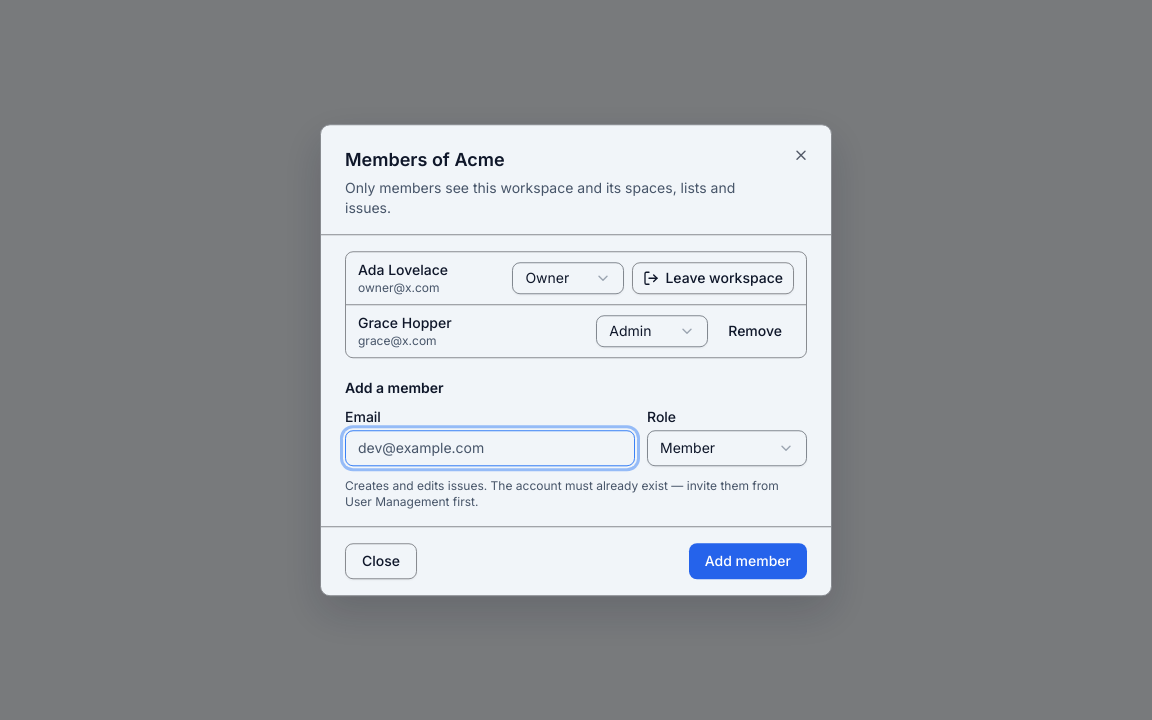
MembersDialog changing members › asks before you lower your own role, and shows why the last owner cannot
This screenshot has width=1152, height=720.
Click the dropdown named "Role of Ada Lovelace" at [568, 278], box [512, 262, 624, 294]
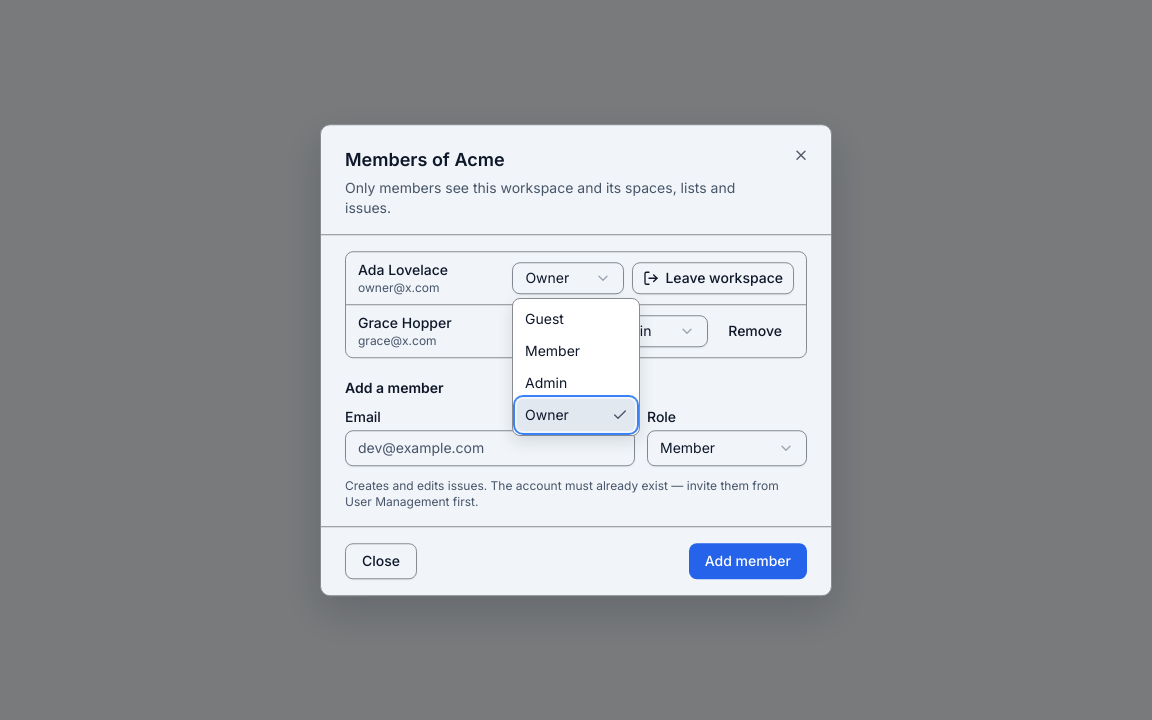
Click the option "Admin" at [546, 382], box [525, 374, 567, 391]
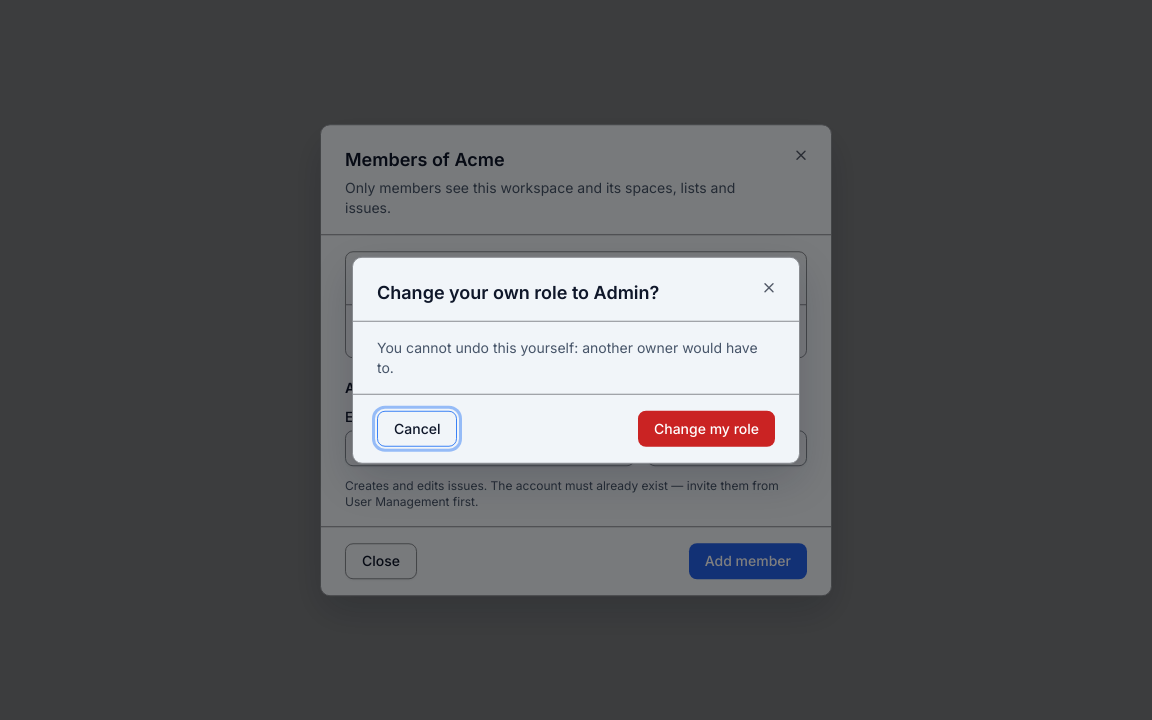
expect the dialog "Change your own role to Admin?" shows "You cannot undo this yourself: another owner would have to.": met, box [377, 338, 758, 375]
Click the button "Cancel" at [417, 428], box [377, 410, 458, 446]
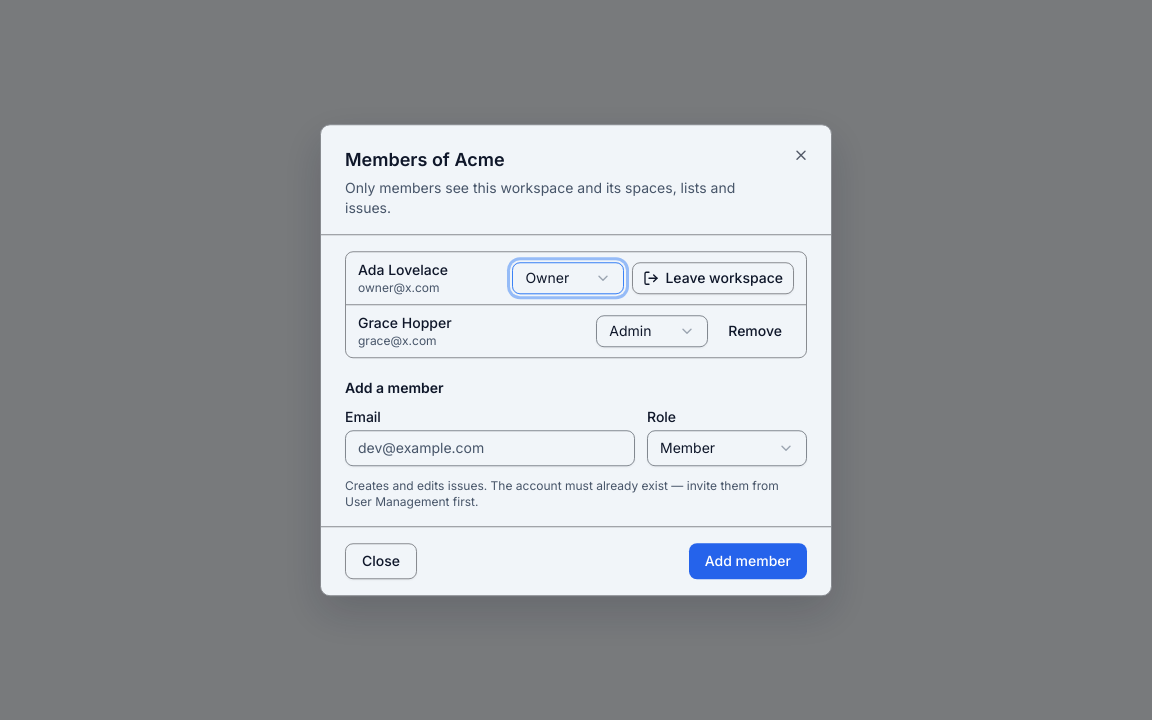
Click the dropdown named "Role of Ada Lovelace" at [568, 278], box [512, 262, 624, 294]
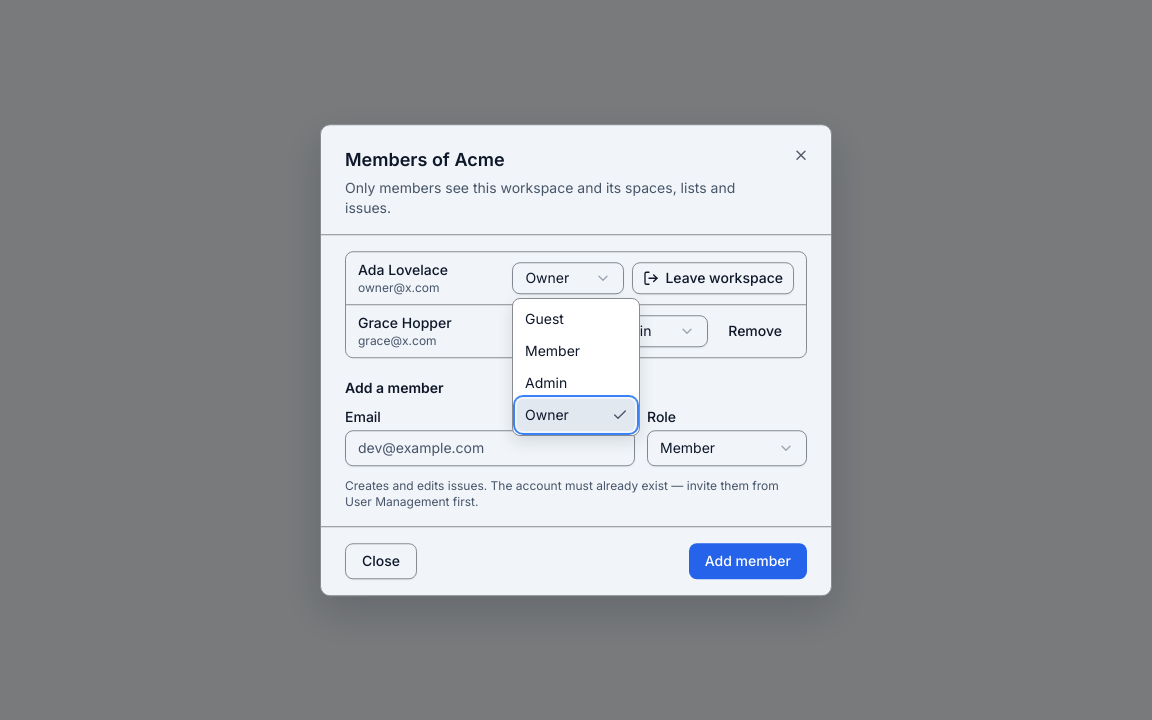
Click the option "Admin" at [546, 382], box [525, 374, 567, 391]
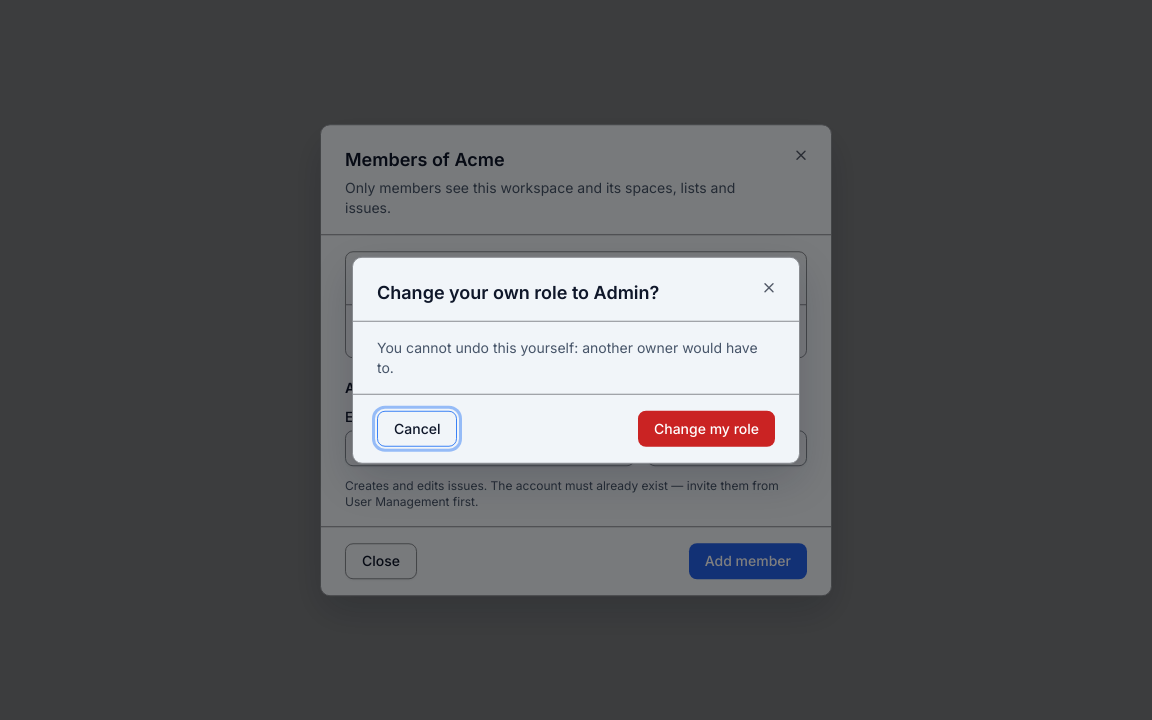
Click the button "Change my role" at [706, 428], box [638, 410, 775, 446]
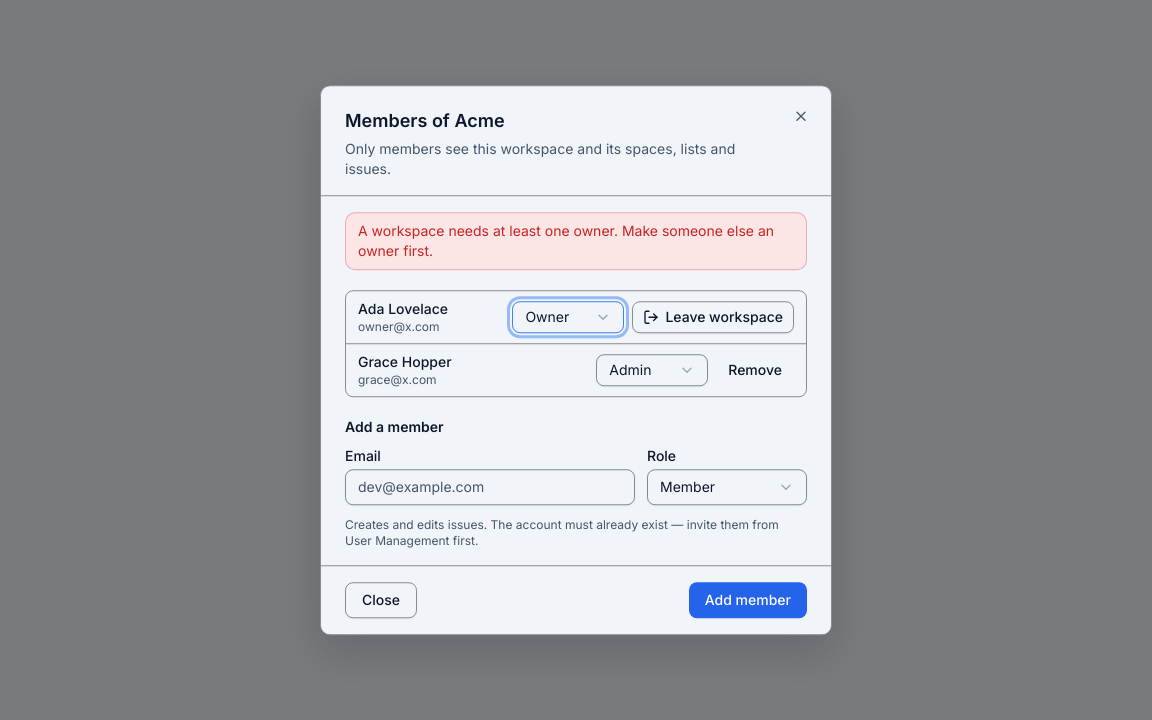
expect the dropdown named "Role of Ada Lovelace" reads "Owner": met, box [512, 301, 624, 333]
expect the message reads "A workspace needs at least one owner. Make someone else an owner first.": met, box [358, 222, 774, 259]
